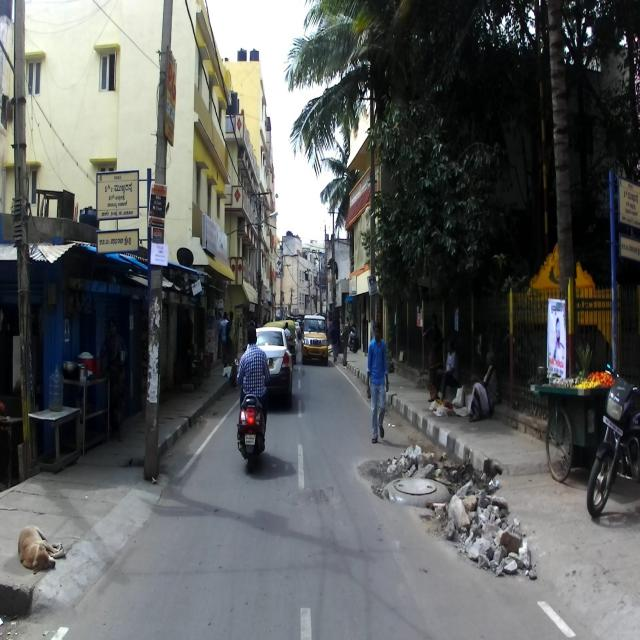Car_Maruti-Suzuki: (240, 323, 296, 406)
motorcycle_TVS: (586, 363, 640, 517)
scooter: (233, 357, 273, 473)
truck: (300, 312, 328, 365)
